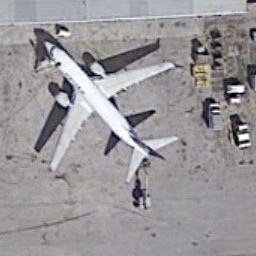Airplane: (20, 30, 183, 186)
